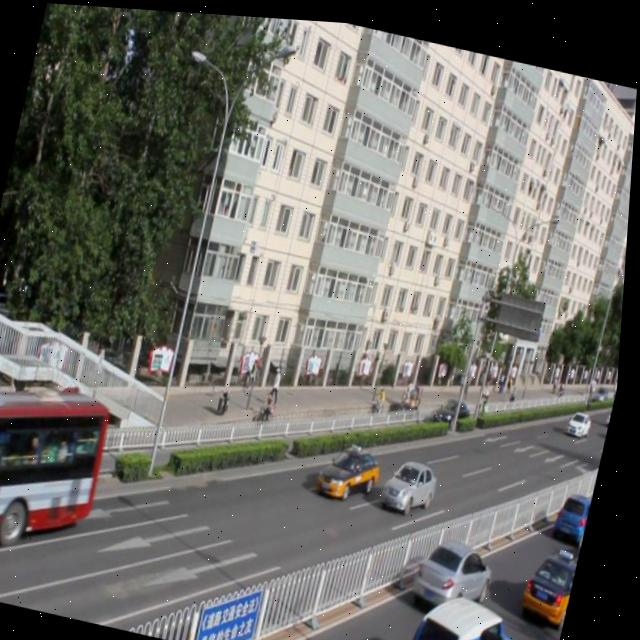car: (416, 522, 505, 612), (406, 577, 530, 640), (525, 536, 586, 617), (320, 434, 388, 501), (384, 447, 445, 512), (555, 478, 599, 537), (436, 389, 476, 424)
van: (0, 369, 121, 592)
